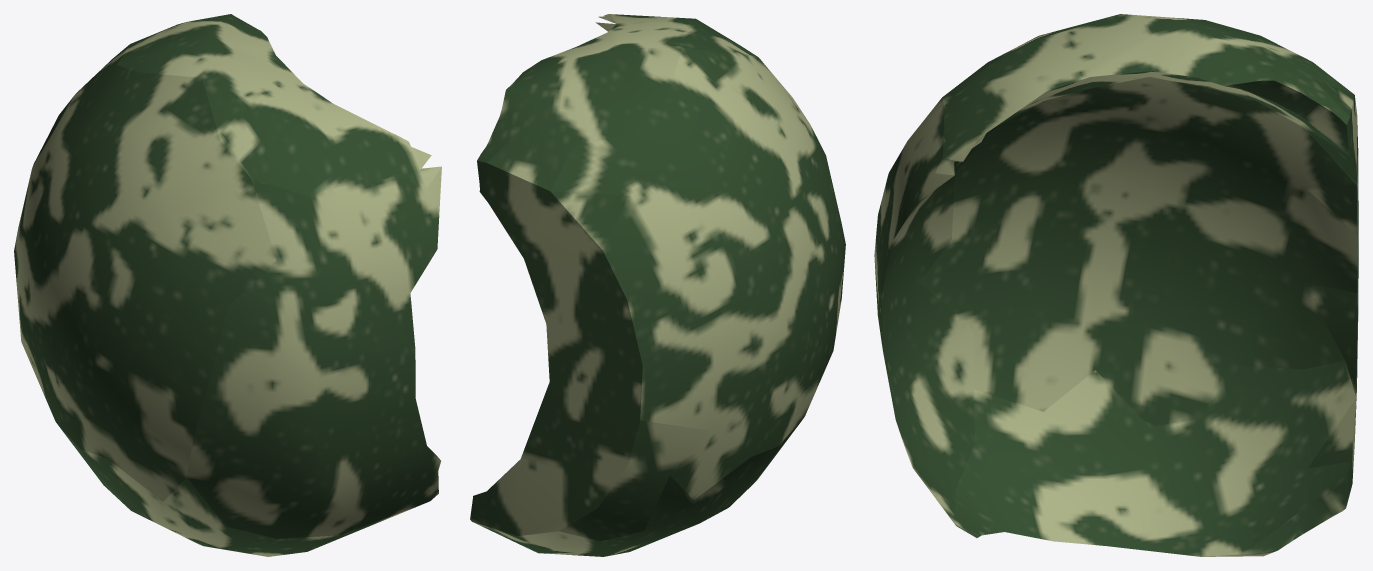
File: link_body_12_composite.obj
3 views of the same model, side by side, from view 1: azimuth 30°, elevation 25°; view 2: azimuth 150°, elevation 25°; view 3: azimuth 270°, elevation 25° (orthographic). The views are drawn at different scales.
Parts seen in each view (by area): view 1: link_body_12; view 2: link_body_12; view 3: link_body_12.
Boxes of the visible parts, left/top/right/bottom form: link_body_12: left=14, top=14, right=441, bottom=556; link_body_12: left=470, top=14, right=845, bottom=556; link_body_12: left=874, top=14, right=1358, bottom=556.
Bounding box in the file's own units: 11.43 × 18.09 × 15.23.
1 material, 1 textured.
